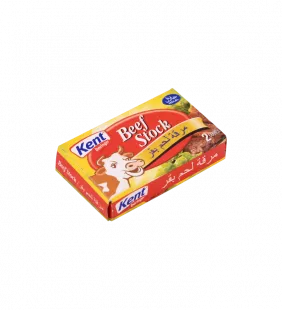KENT: (45, 77, 236, 228)
